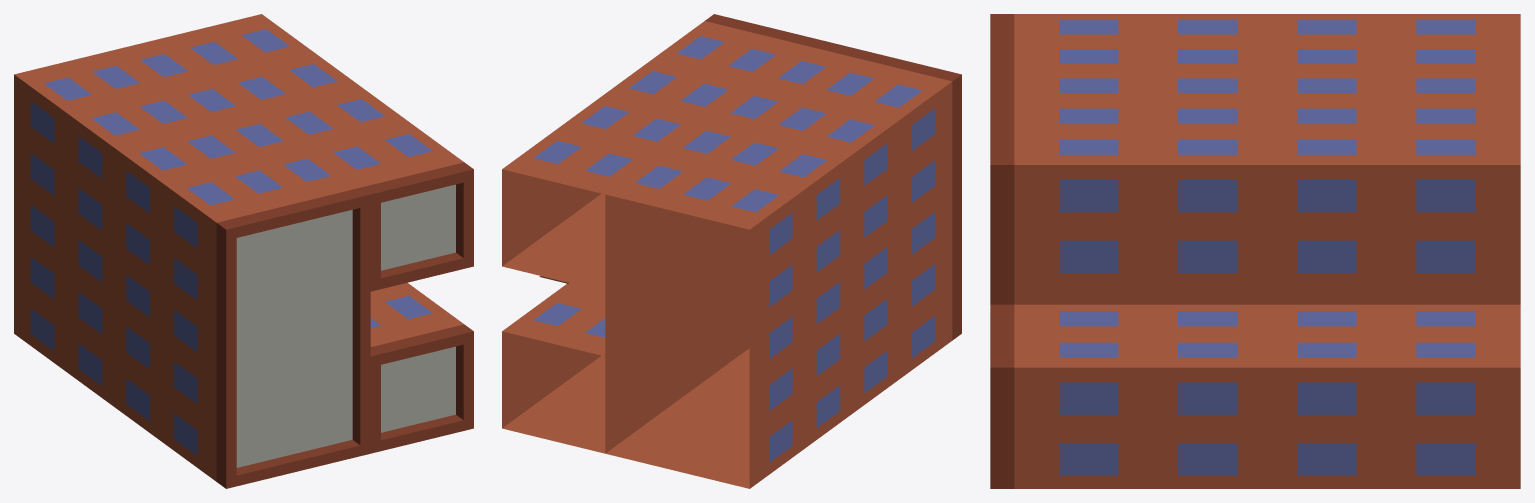
The model's file is construction_2.glb.
3 views of the same model, side by side, from view 1: azimuth 30°, elevation 25°; view 2: azimuth 150°, elevation 25°; view 3: azimuth 270°, elevation 25° (orthographic). The views are drawn at different scales.
Parts seen in each view (by area): view 1: c2; view 2: c2; view 3: c2.
Part boxes in pixels (x1,y1,x2,y2): c2: (14,14,473,488); c2: (502,14,961,488); c2: (990,14,1520,488).
Bounding box in the file's own units: 12.12 × 12.12 × 17.8.
